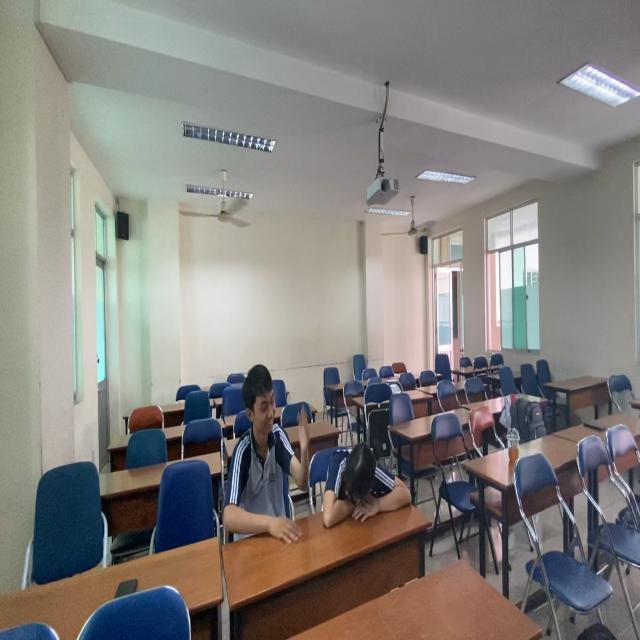raise_hand: (224, 361, 313, 550)
sleep: (324, 430, 420, 531)
